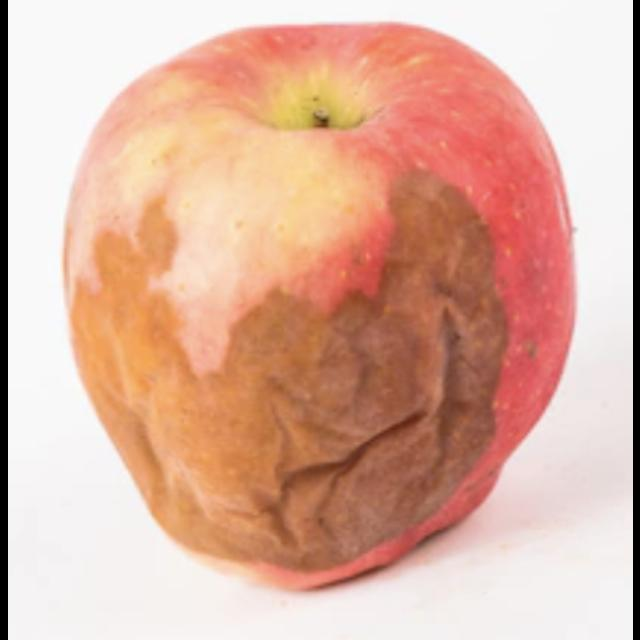Apel Tidak Segar: (61, 24, 578, 582)
